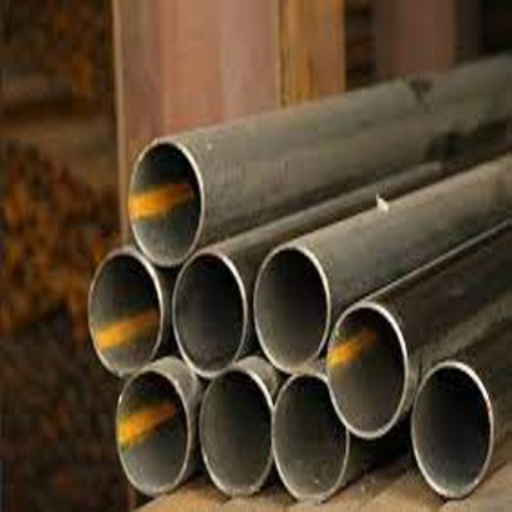Circle: (415, 364, 491, 494), (331, 303, 406, 427), (202, 369, 271, 491), (257, 248, 328, 366), (116, 372, 188, 488), (175, 252, 245, 371), (89, 253, 160, 369), (131, 140, 199, 260), (279, 375, 347, 495)
